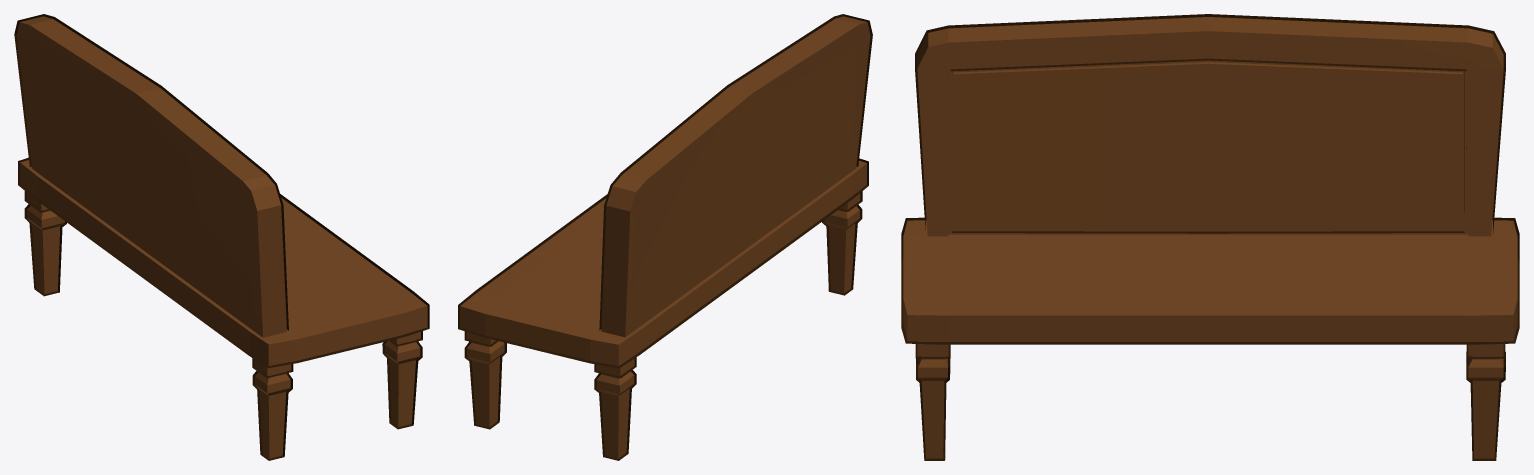
File: Chair_(Outlined)_v002.fbx
3 renders of one model, left to right at view 1: azimuth 30°, elevation 25°; view 2: azimuth 150°, elevation 25°; view 3: azimuth 270°, elevation 25°, orthographic. The views are drawn at different scales.
Parts seen in each view (by area): view 1: Chair; view 2: Chair; view 3: Chair.
Part boxes in pixels (bbox=[...]): Chair: bbox=[14, 14, 429, 460]; Chair: bbox=[458, 14, 872, 460]; Chair: bbox=[901, 14, 1519, 460].
Bounding box in the file's own units: 156 × 249 × 398.
